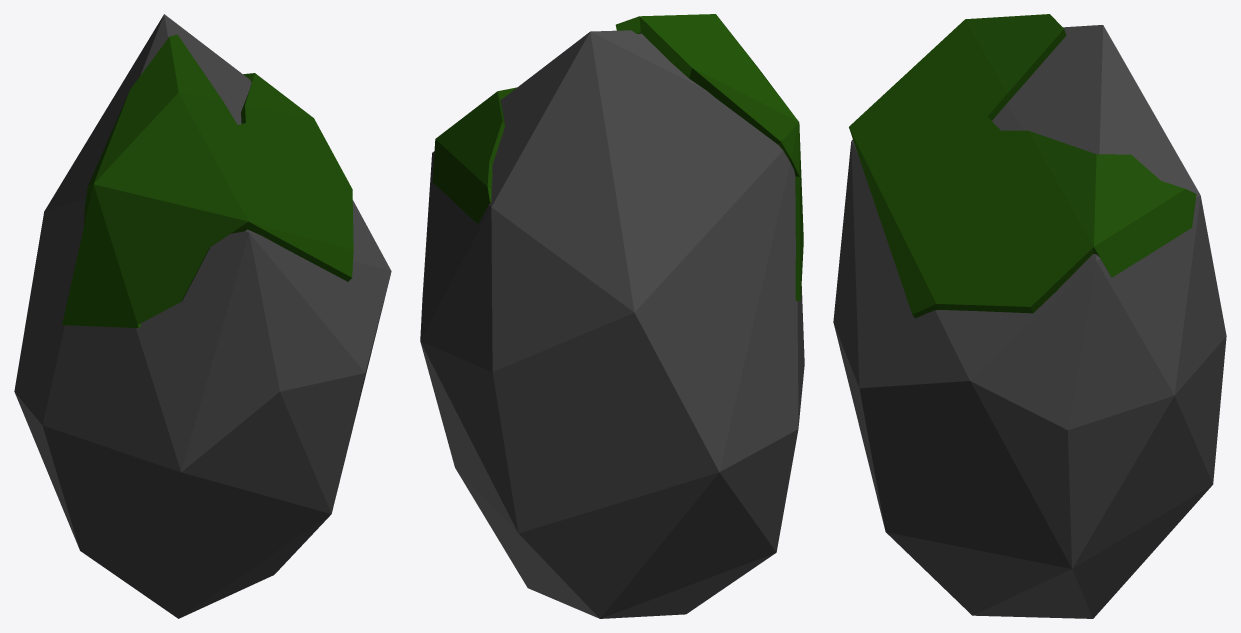
Rendered from Sea_Rock1.fbx.
3 renders of one model, left to right at view 1: azimuth 30°, elevation 25°; view 2: azimuth 150°, elevation 25°; view 3: azimuth 270°, elevation 25°, orthographic. The views are drawn at different scales.
Parts seen in each view (by area): view 1: Icosphere.010; view 2: Icosphere.010; view 3: Icosphere.010.
Part boxes in pixels (bbox=[...]): Icosphere.010: bbox=[14, 14, 391, 618]; Icosphere.010: bbox=[420, 14, 804, 618]; Icosphere.010: bbox=[833, 14, 1226, 618].
Bounding box in the file's own units: 509 × 838 × 499.
